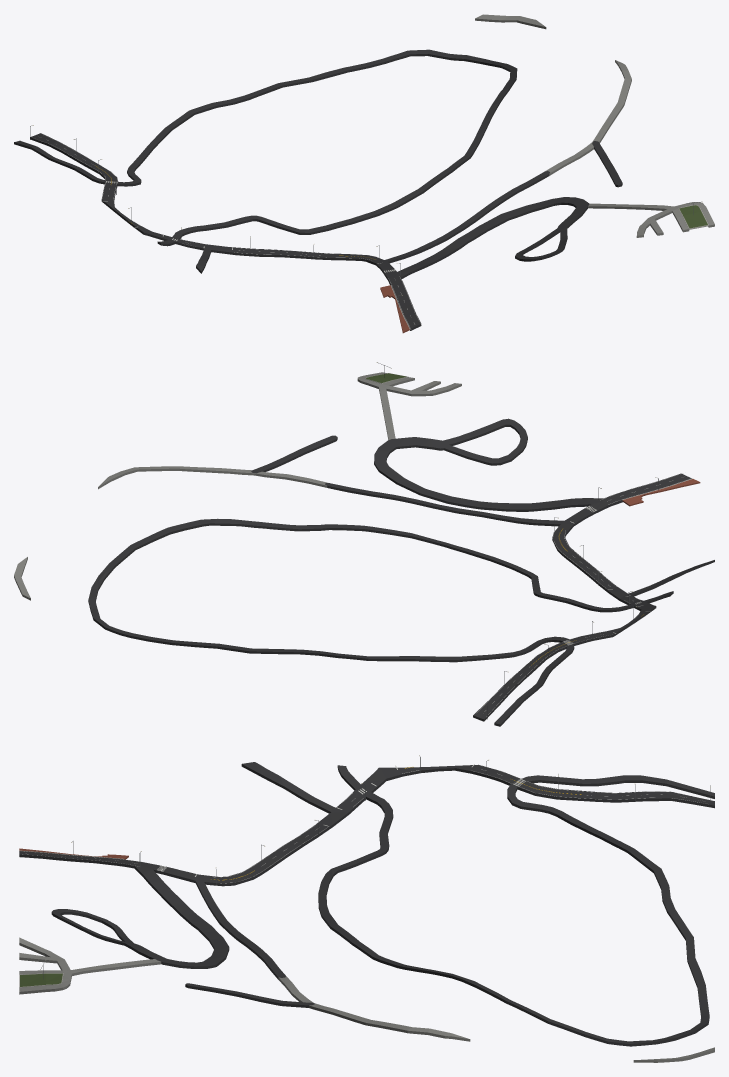
3 views of the same model, one above another, from view 1: azimuth 30°, elevation 25°; view 2: azimuth 150°, elevation 25°; view 3: azimuth 270°, elevation 25° (orthographic). The views are drawn at different scales.
Bounding box in the file's own units: 295 × 30.64 × 294.
